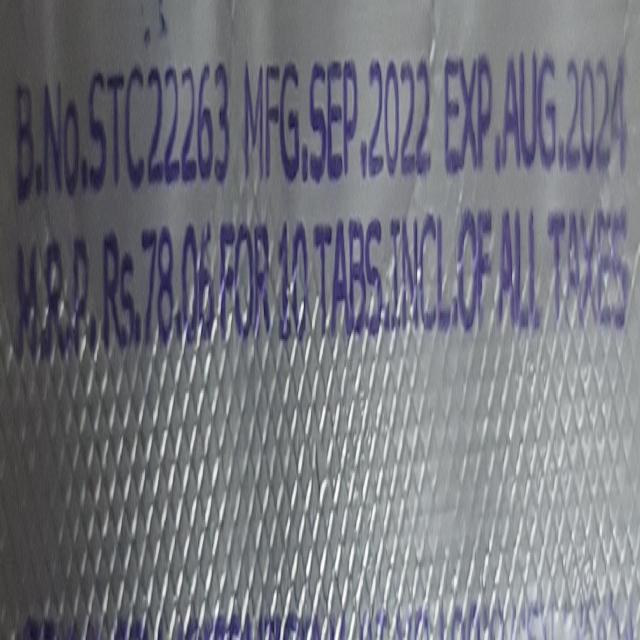sentence: (11, 12, 626, 205), (14, 205, 629, 360)
